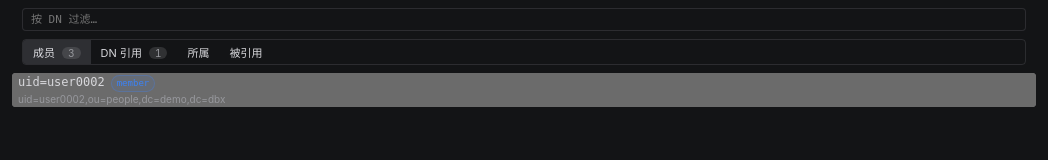
Test case: AssociationPanel dn-references tab › never repeats member/uniqueMember in the references tab
The width and height of the screenshot is (1048, 160).
Expected: the number of buttons with class "assoc-row" is 3, [22,73,1026,107]; [22,73,1026,107]; [22,73,1026,107]
Click the tab "DN 引用 1" at (134, 52), box [91,40,178,64]
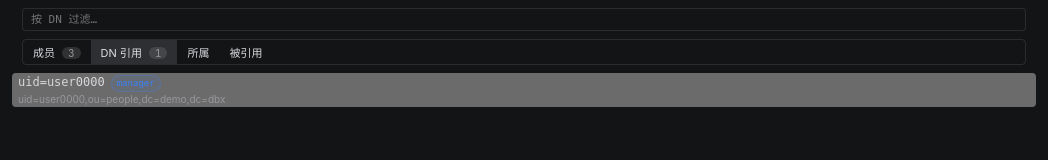
Expected: the number of buttons with class "assoc-row" is 1, [22,73,1026,107]
Expected: the text with class "assoc-attr" reads "manager", [117,78,155,88]
Expected: the button with class "assoc-references" no longer shows "uid=user0002"
